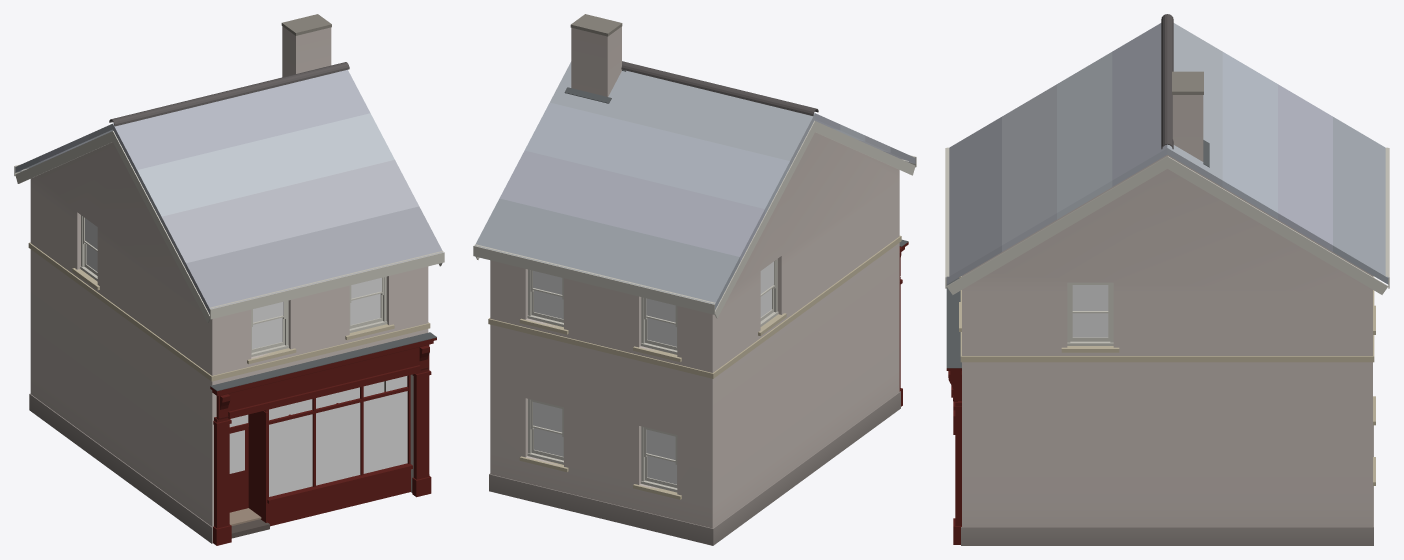
File: town_bakery_a_lod2.glb
3 views of the same model, side by side, from view 1: azimuth 30°, elevation 25°; view 2: azimuth 150°, elevation 25°; view 3: azimuth 270°, elevation 25° (orthographic). The views are drawn at different scales.
Visible parts, largest first — view 1: body; view 2: body; view 3: body.
Boxes of the visible parts, box(x1,y1,x2,y2) form: body: box(14, 14, 444, 545); body: box(473, 14, 916, 545); body: box(945, 14, 1389, 545).
Size of what is drawn, in the model's own units: 5.98 by 9.71 by 8.65.
